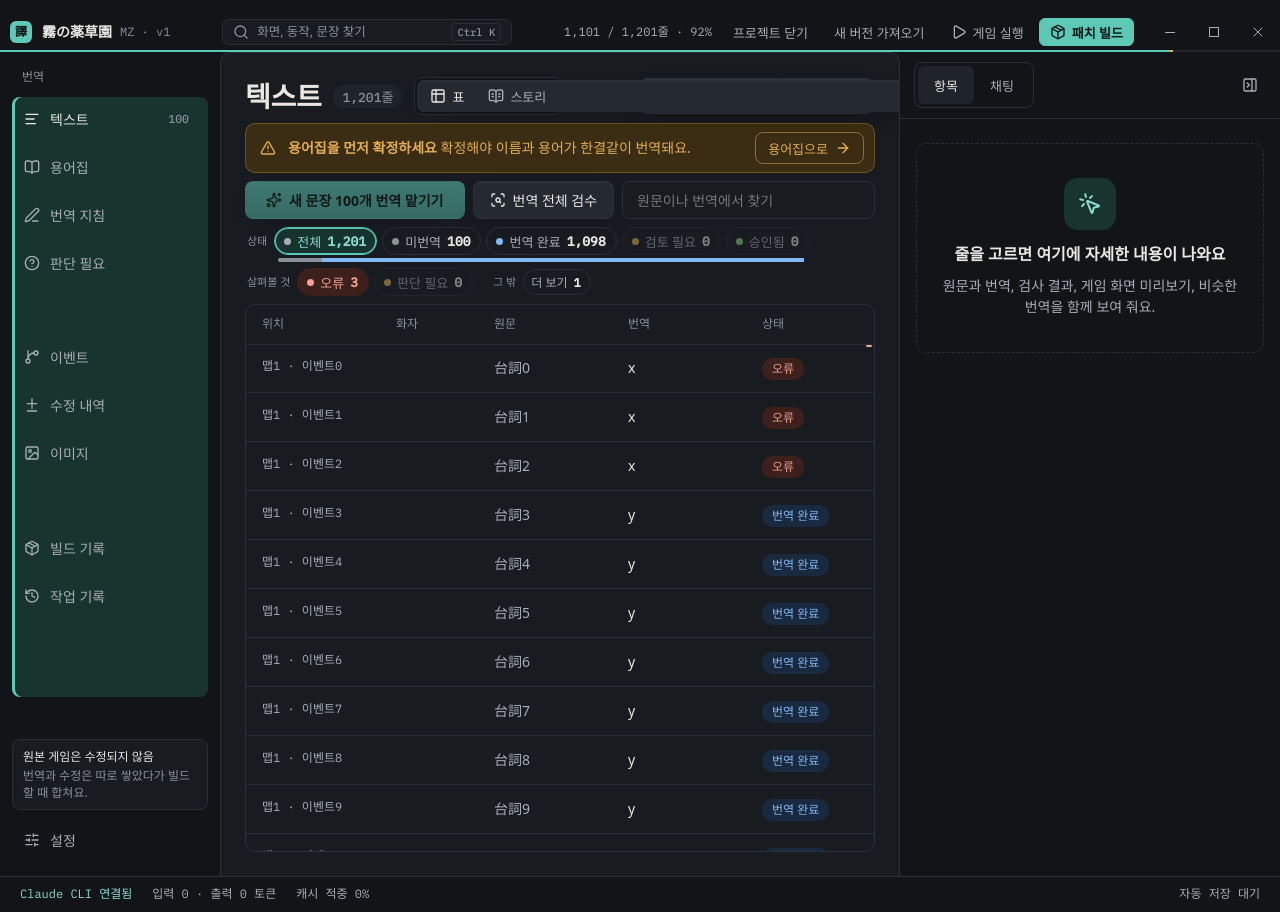
거르기 단추는 상태, 살펴볼 것, 그 밖으로 묶이고 색과 흐림으로 구별된다
Expected: the text "霧の薬草園" is shown, [42,21,112,43]
Expected: the button "판단 필요 0" is enabled, [374,268,473,296]
Click the button "오류 3": click(333, 282) [297,268,369,296]
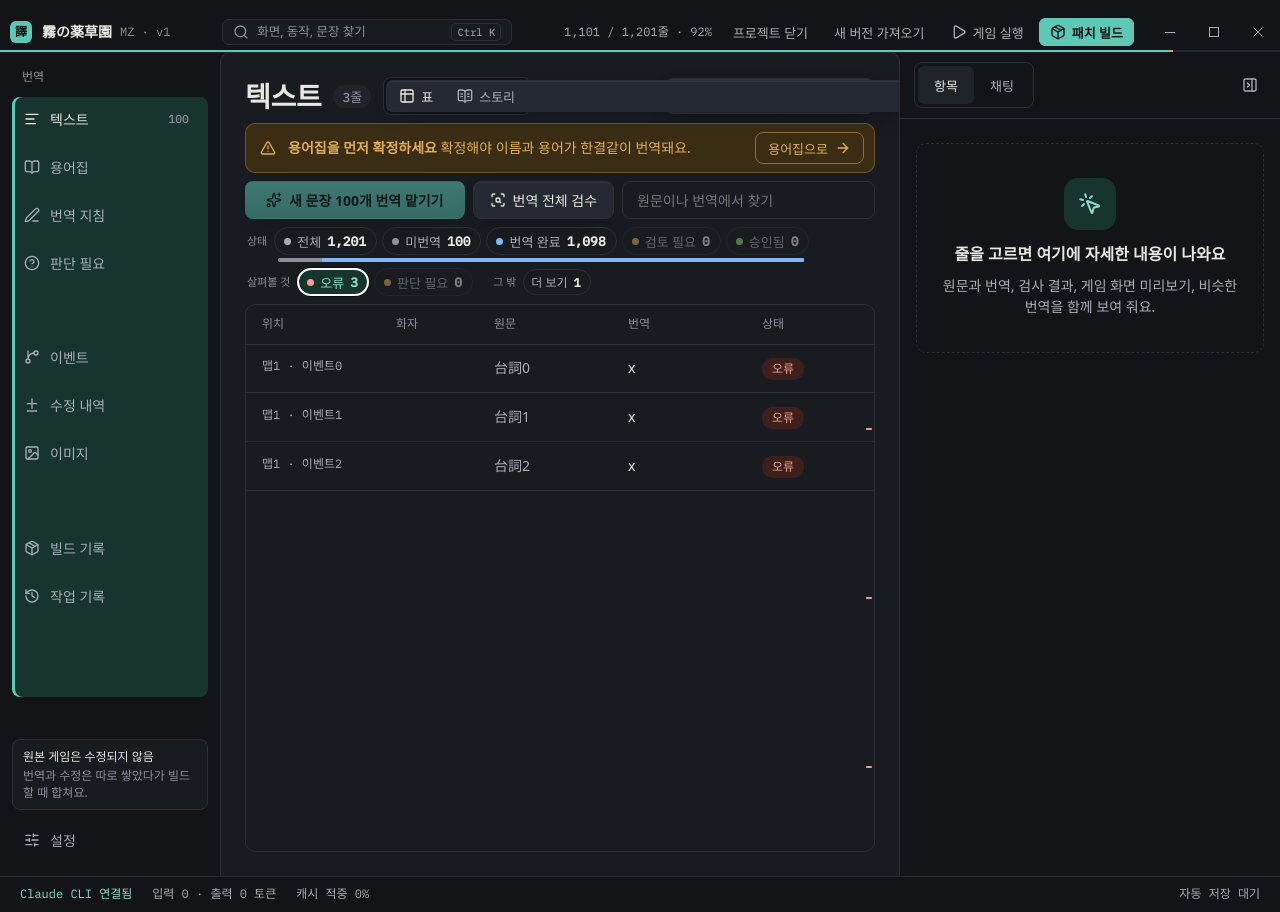
Now the button "오류 3" has class "on", box [297,268,369,296]
